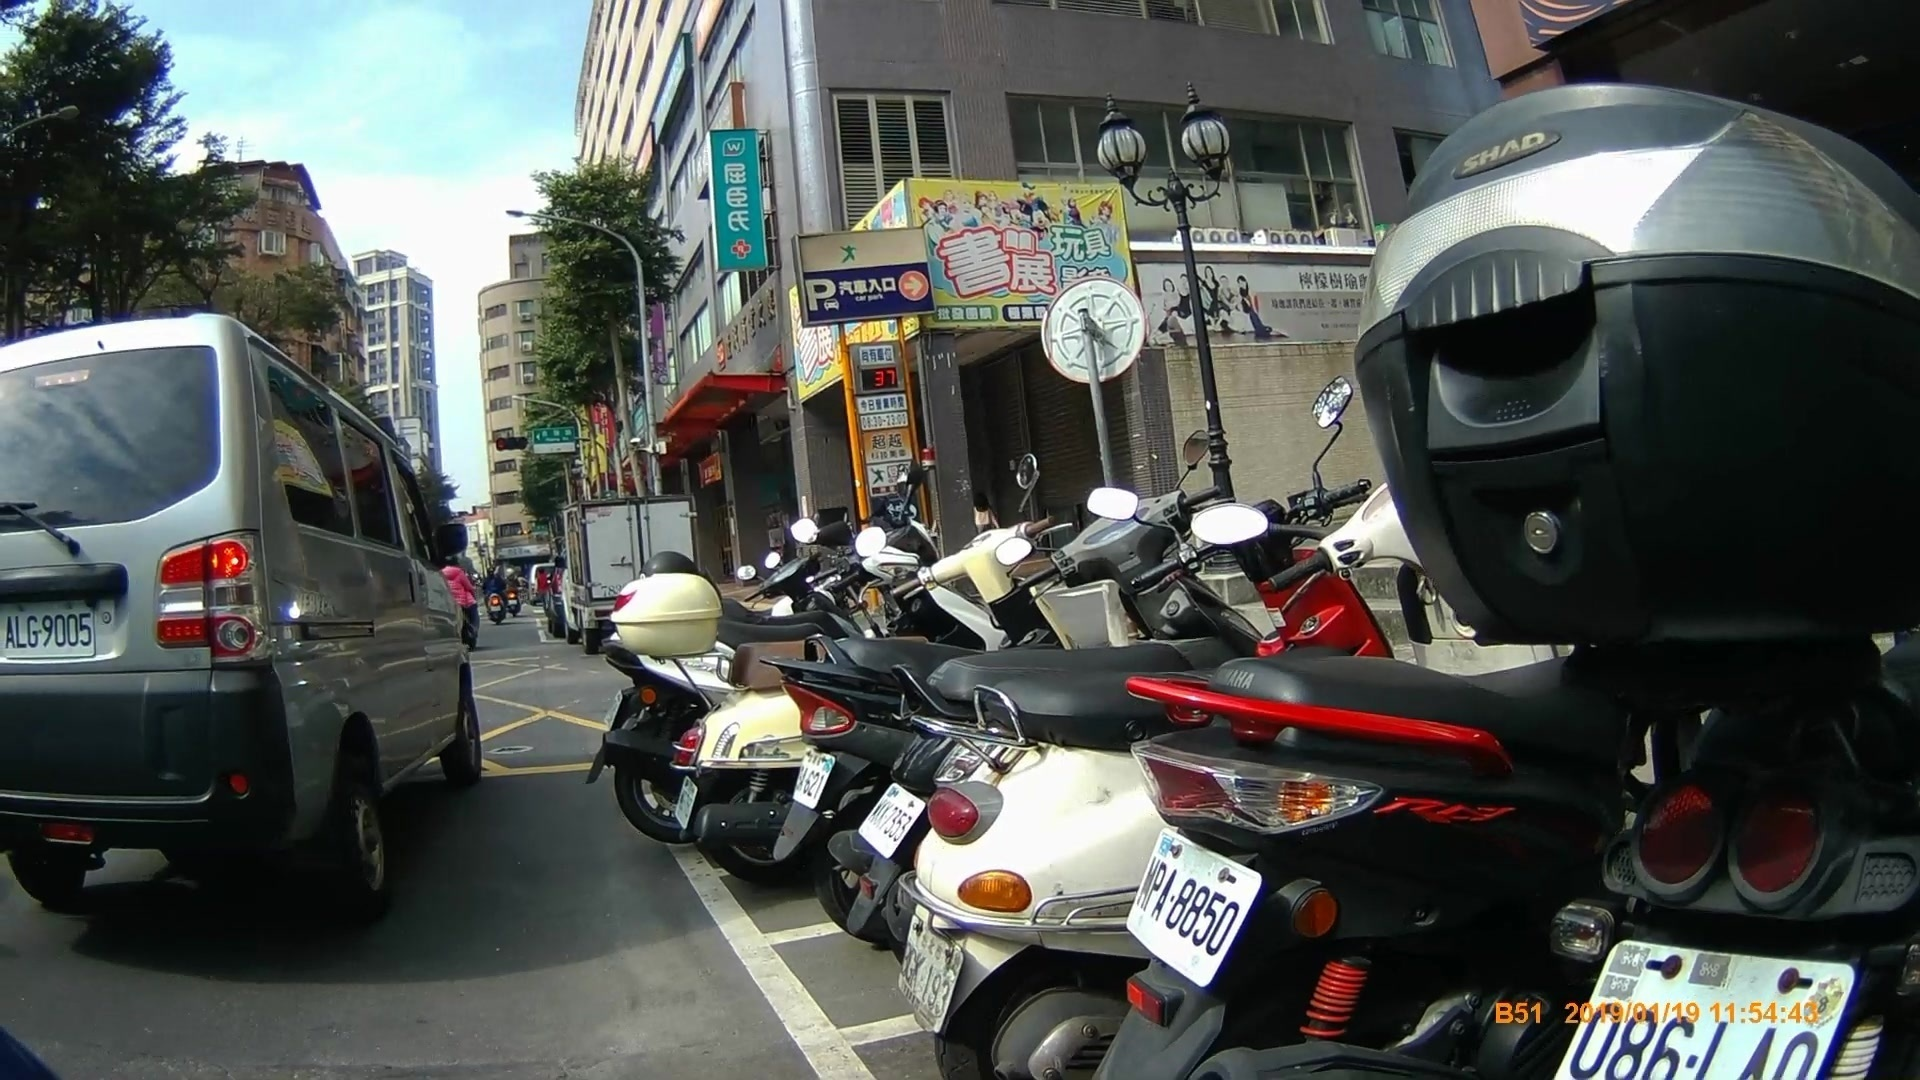License_plate: (1129, 827, 1261, 991), (2, 602, 97, 660), (857, 783, 926, 859), (790, 743, 838, 811)
